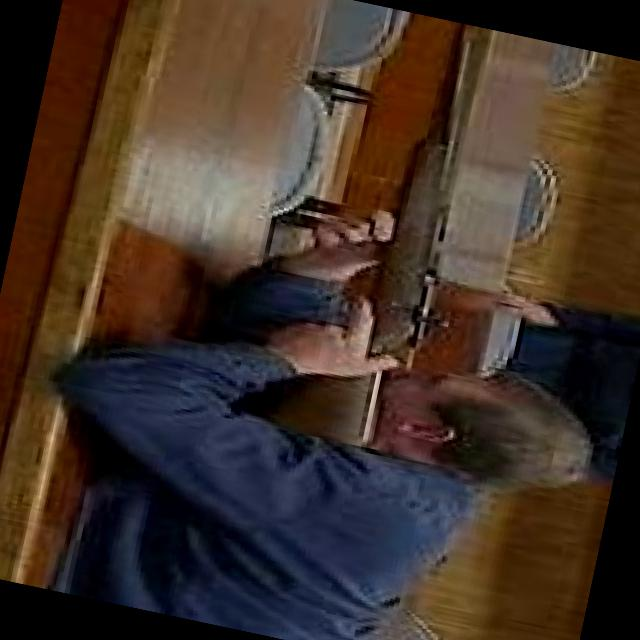long weapon: (326, 9, 516, 367)
